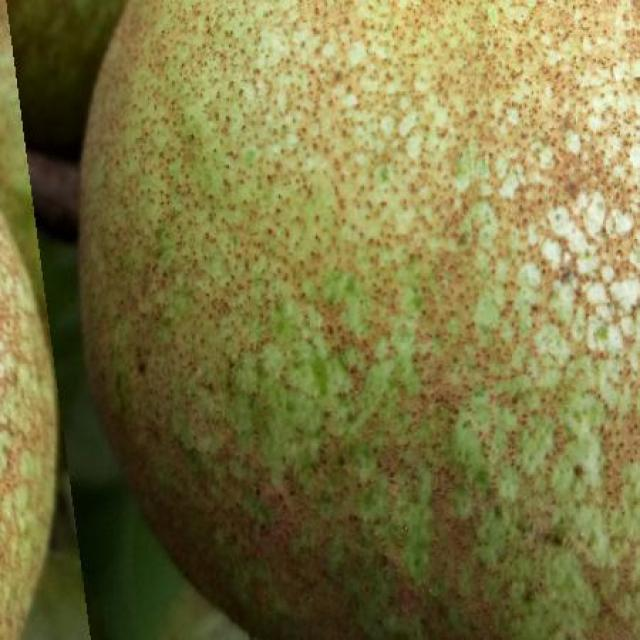Scab: (80, 1, 640, 640)
